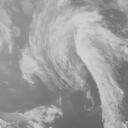cyclone: (36, 25, 103, 93)
